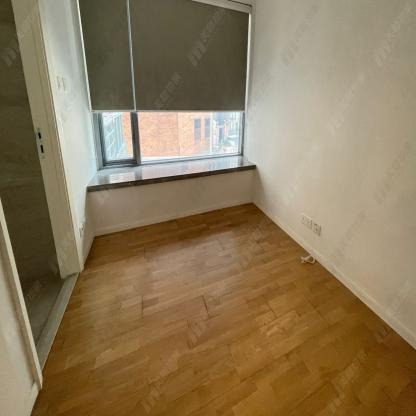Windowsill: (70, 0, 256, 193)
